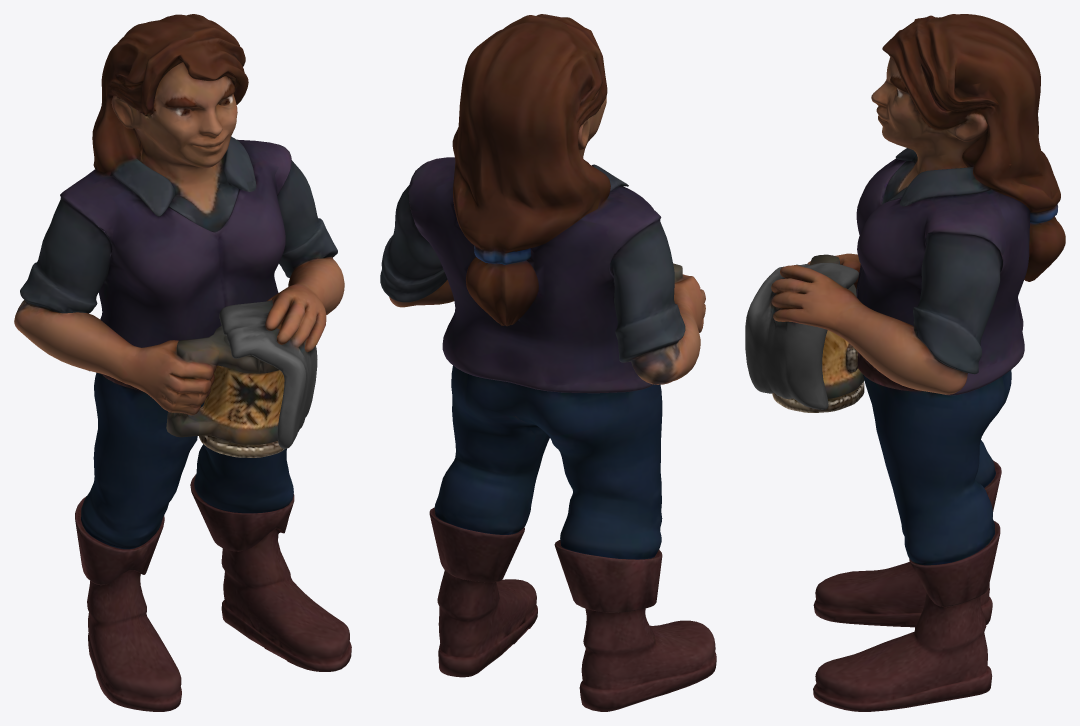
File: MZ4250 - Dwarf Female Barkeep.glb
3 renders of one model, left to right at view 1: azimuth 30°, elevation 25°; view 2: azimuth 150°, elevation 25°; view 3: azimuth 270°, elevation 25°, orthographic. The views are drawn at different scales.
Visible parts, largest first — view 1: Dwarf Female Barkeep.001; view 2: Dwarf Female Barkeep.001; view 3: Dwarf Female Barkeep.001.
Boxes of the visible parts, x1,y1,x2,y2 form: Dwarf Female Barkeep.001: (14, 14, 351, 711); Dwarf Female Barkeep.001: (380, 14, 716, 711); Dwarf Female Barkeep.001: (745, 14, 1065, 711).
Size of the model in its own units: 0.3506 by 0.689 by 0.3173.
1 material, 1 textured.
